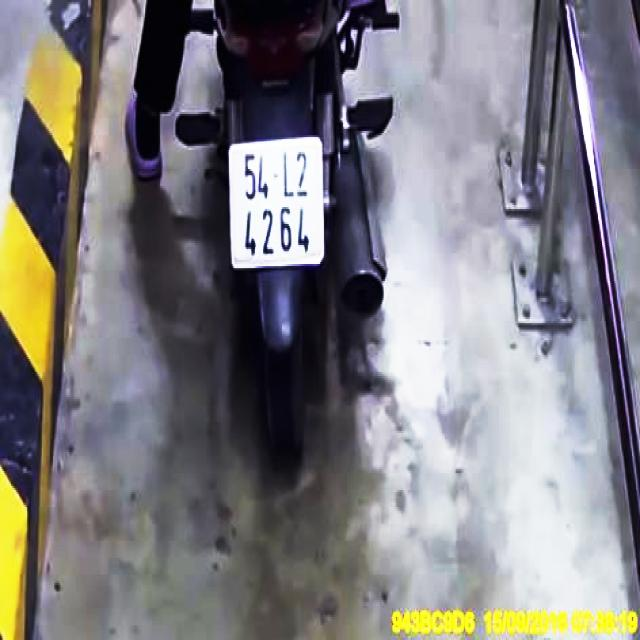license_plate: (229, 143, 326, 271)
